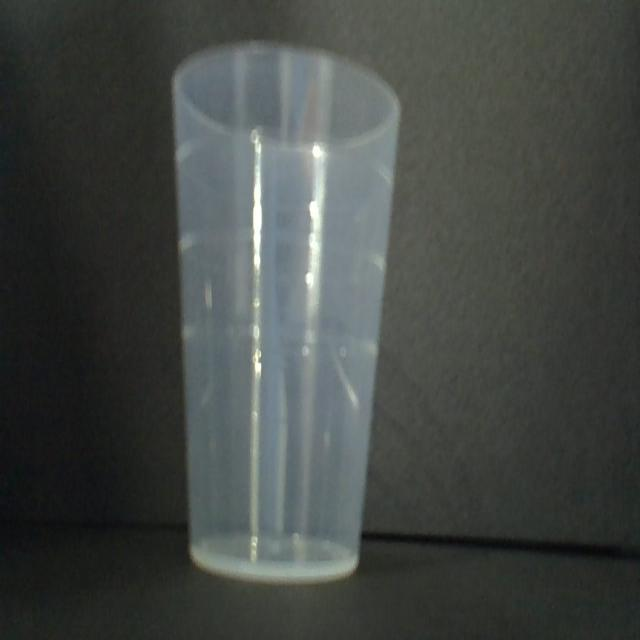cup: (167, 32, 403, 588)
